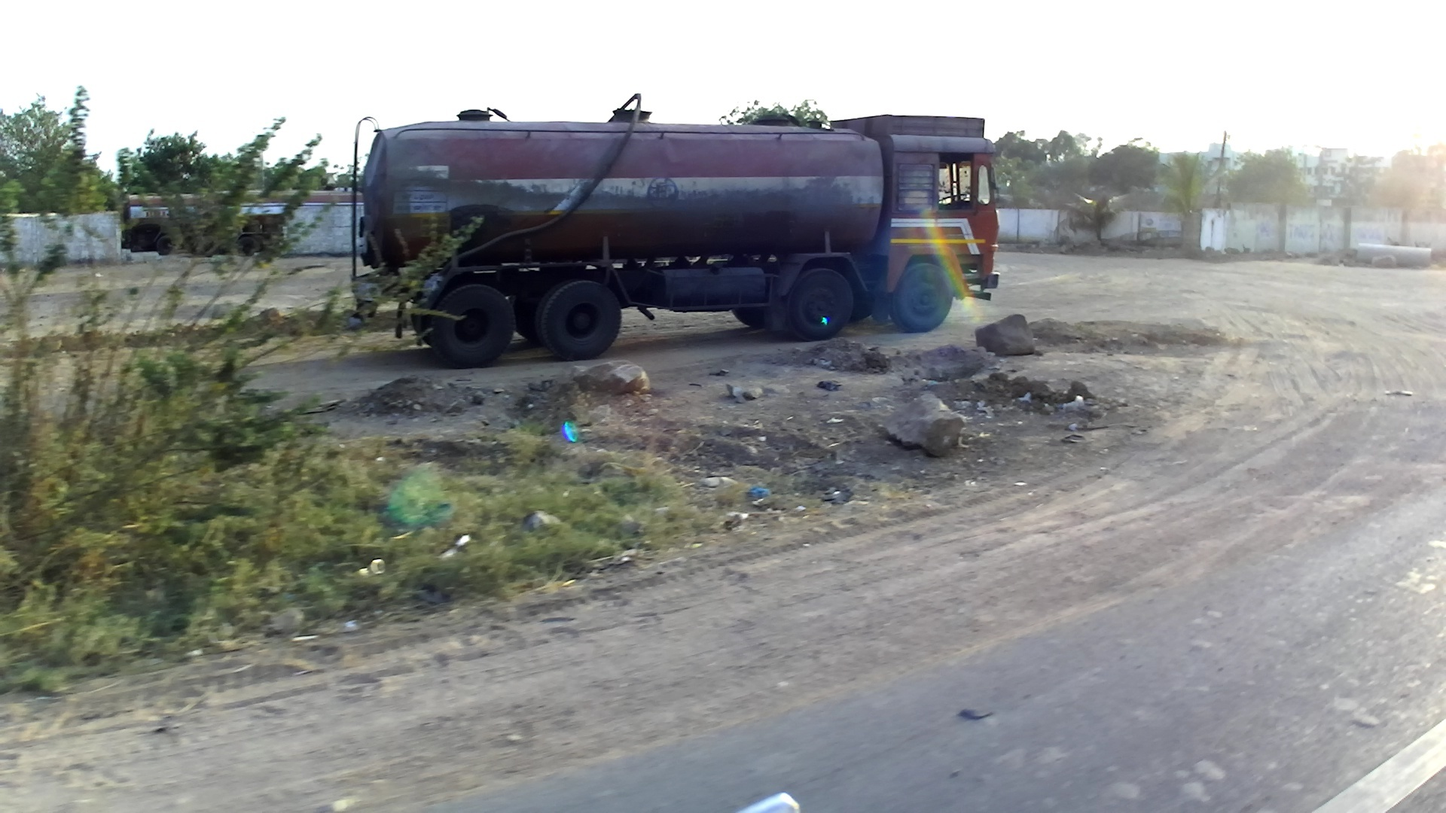truck: (341, 91, 1009, 369), (114, 193, 284, 265)
